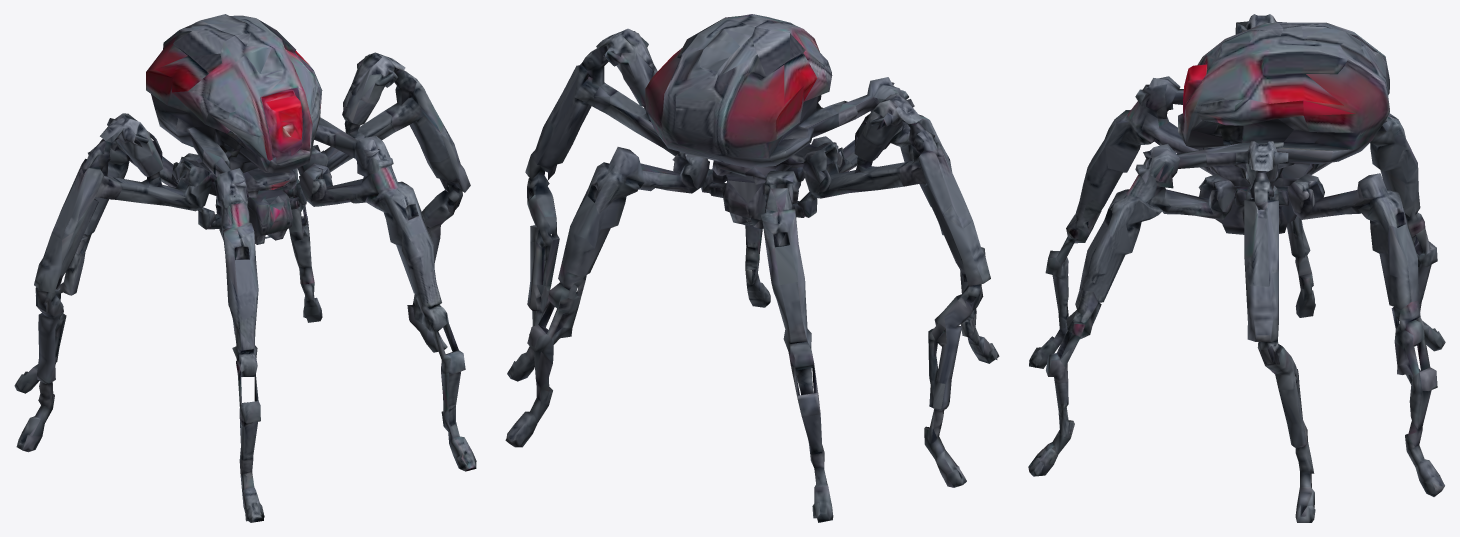
The model's file is t94_spider_lod1.glb.
3 views of the same model, side by side, from view 1: azimuth 30°, elevation 25°; view 2: azimuth 150°, elevation 25°; view 3: azimuth 270°, elevation 25° (orthographic). The views are drawn at different scales.
Bounding box in the file's own units: 4.78 × 4 × 3.88.
Materials: 1 (1 with a texture image).
